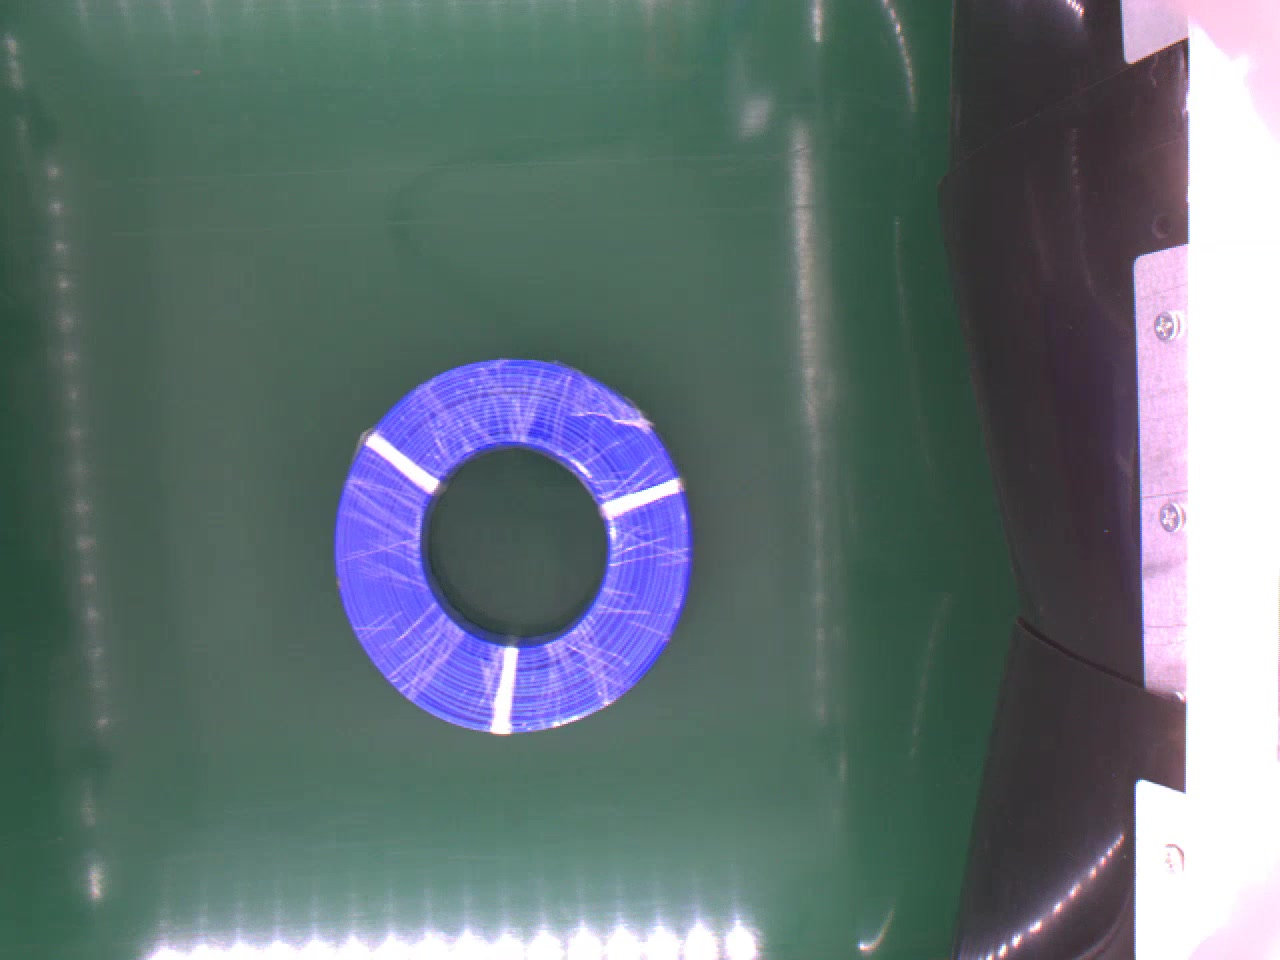blue: (322, 351, 701, 737)
